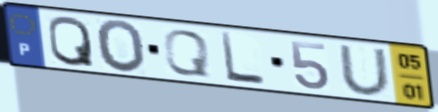5: (287, 38, 332, 91)
L: (217, 30, 268, 87)
O: (94, 18, 149, 75)
Q: (46, 14, 98, 69), (161, 28, 213, 79)
U: (335, 44, 394, 99)
